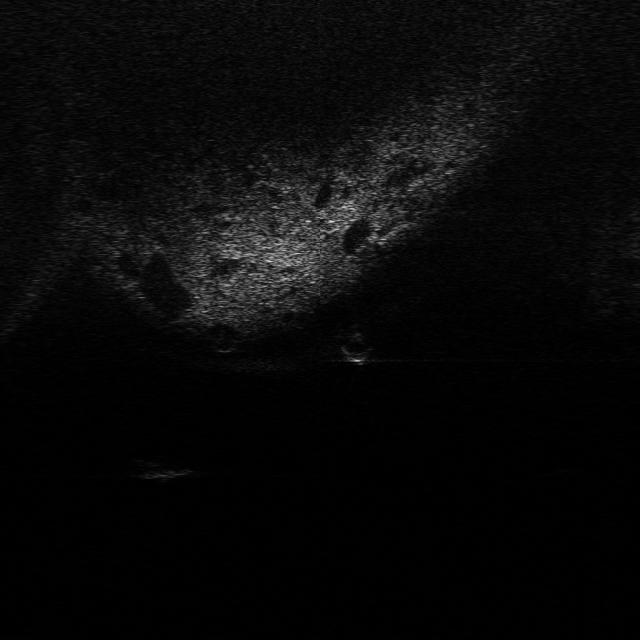ball: (332, 328, 376, 360)
cube: (130, 458, 194, 481)
